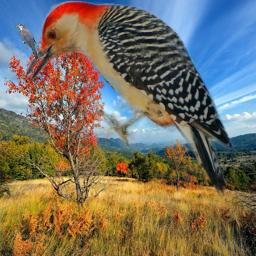Cuckoo: (15, 23, 39, 61)
Woodpecker: (23, 0, 238, 203)
